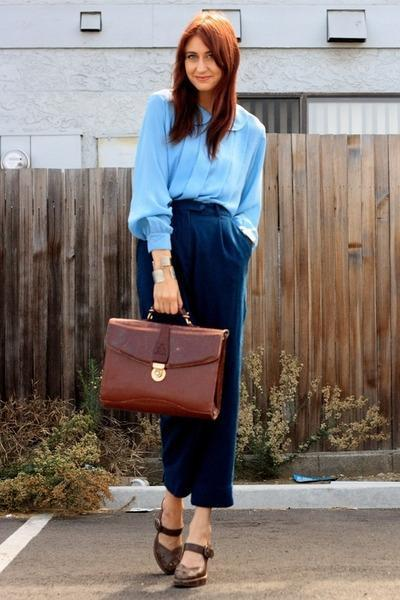bag: (91, 318, 228, 424)
pants: (133, 194, 253, 508)
shirt: (128, 96, 265, 251)
shoe: (154, 525, 213, 588)
